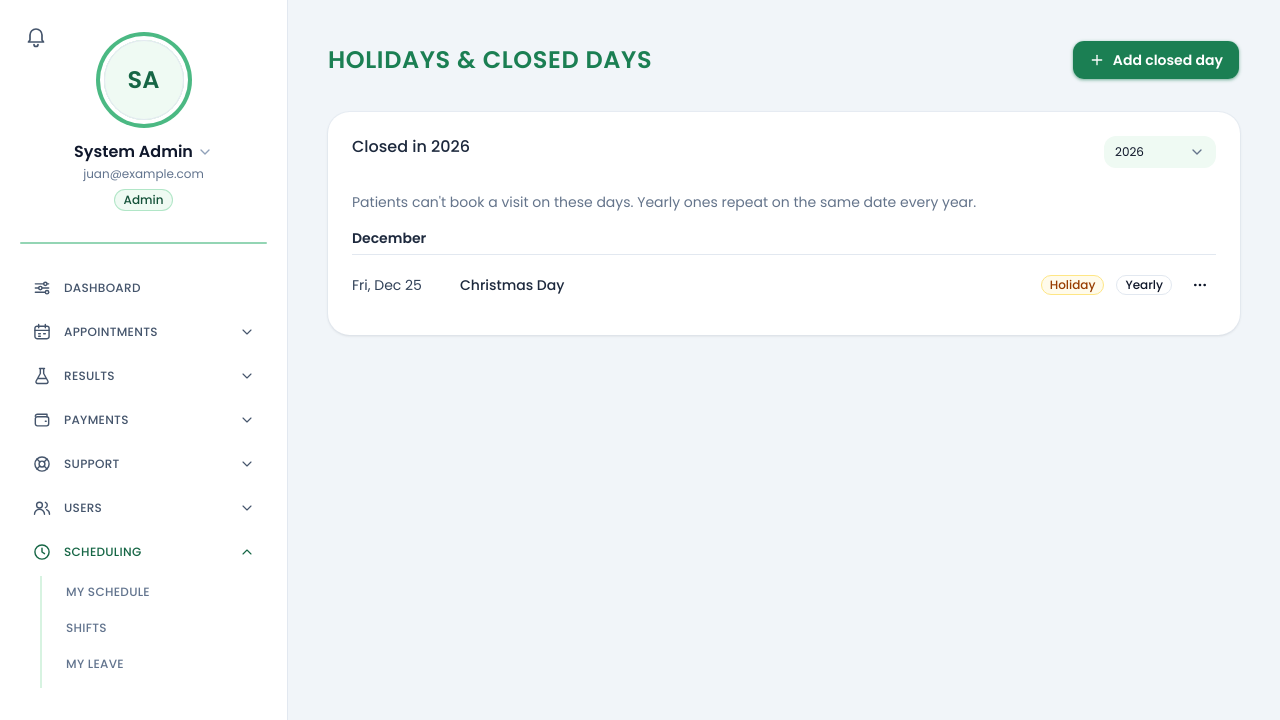
Test case: HolidaysPage › adds a closed day through the dialog
The image size is (1280, 720).
Click the button "Add closed day": point(1156, 60) top-left (1072, 40), bottom-right (1240, 80)
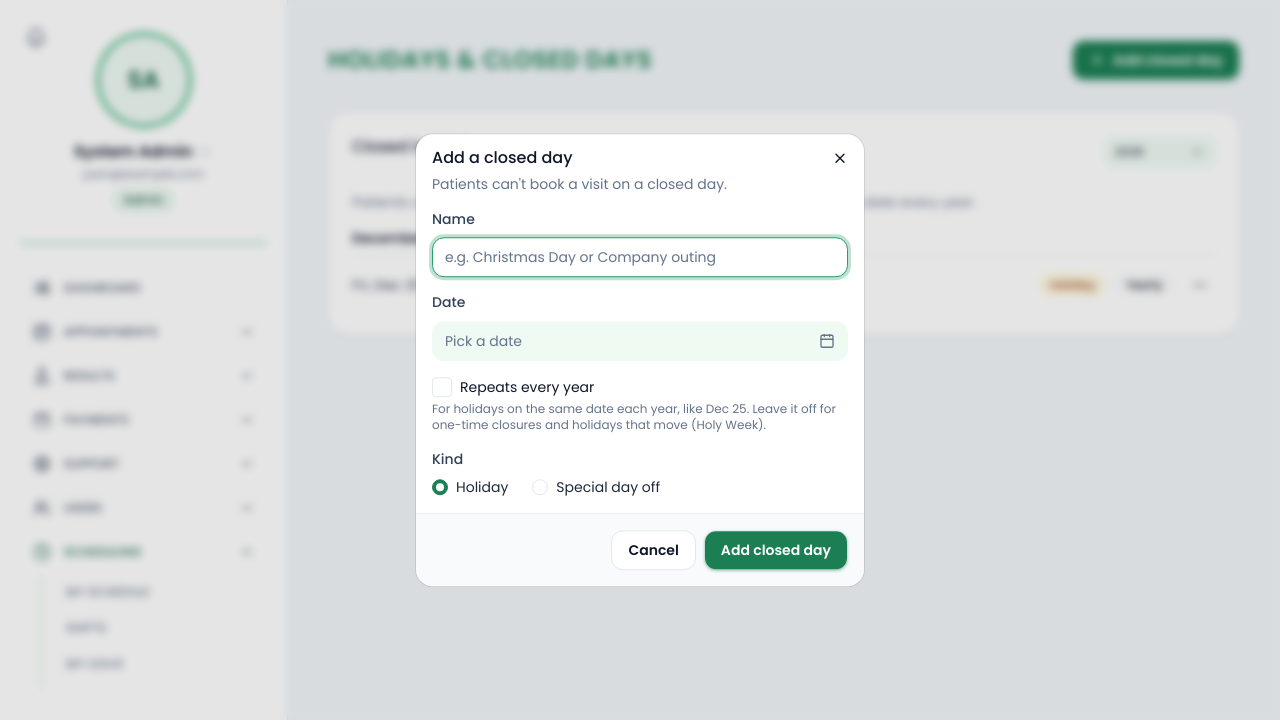
In the field labelled "Name": point(640, 258) top-left (432, 238), bottom-right (848, 278), type "Company outing"
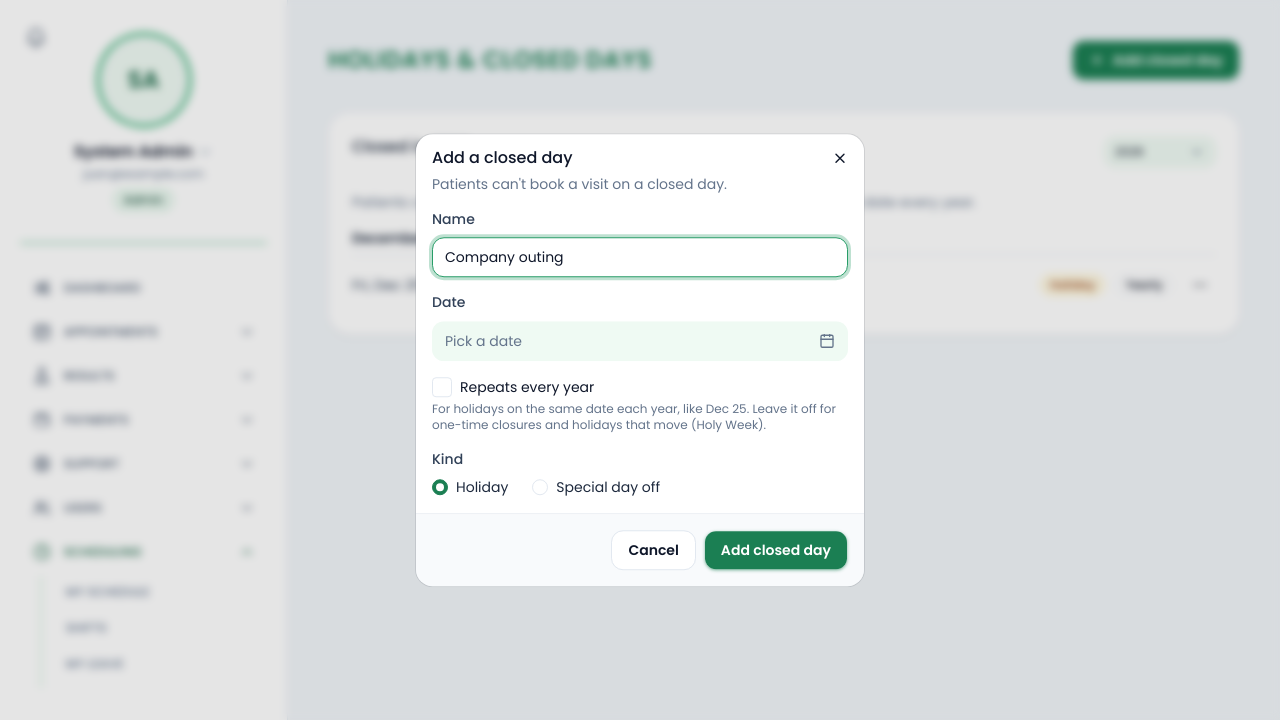
Click the button labelled "Pick a date": point(483, 341) top-left (432, 321), bottom-right (848, 361)
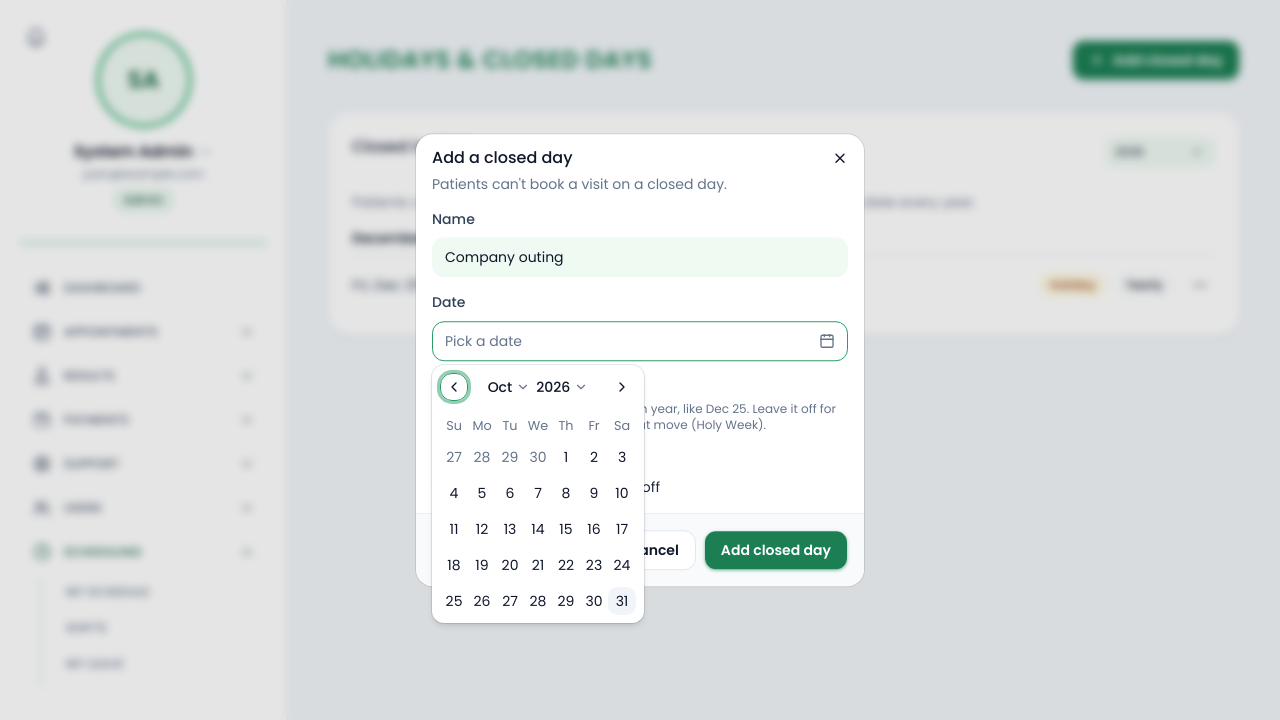
Click the button named " 6th, ": point(510, 493) top-left (496, 479), bottom-right (524, 507)
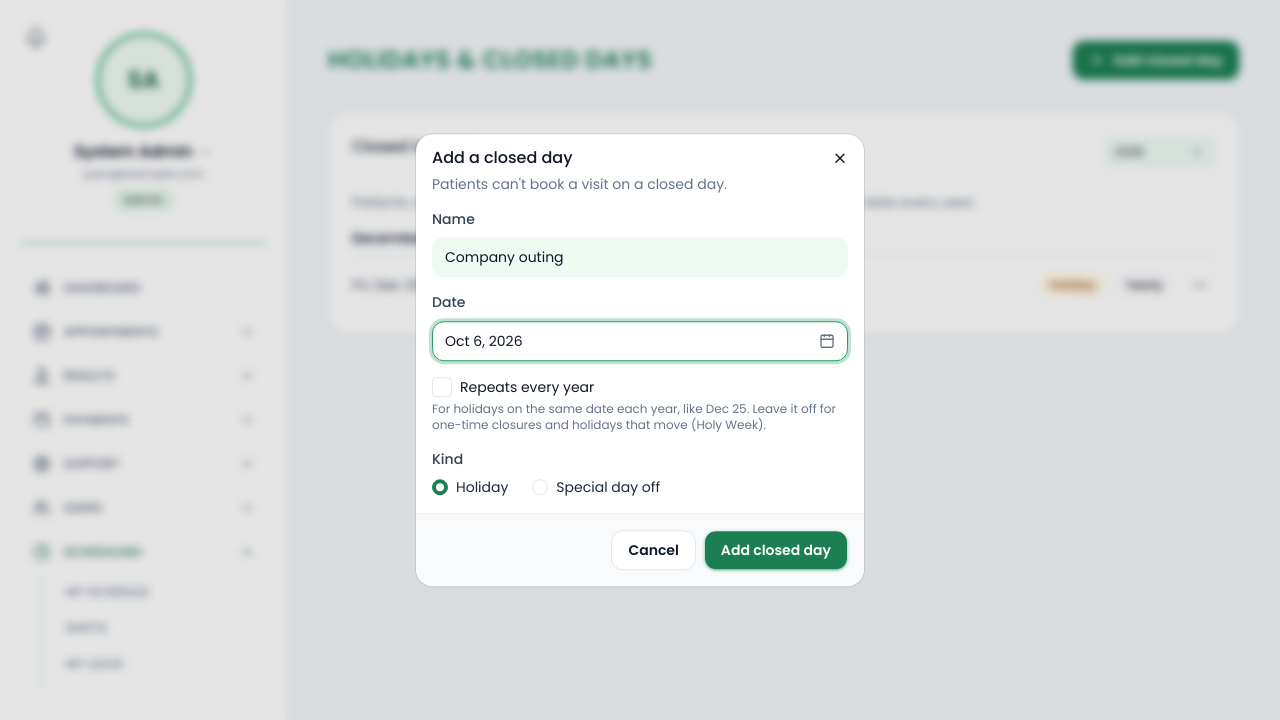
Click the radio button named "Special day off" next to "Special day off": point(540, 487) top-left (532, 479), bottom-right (548, 495)
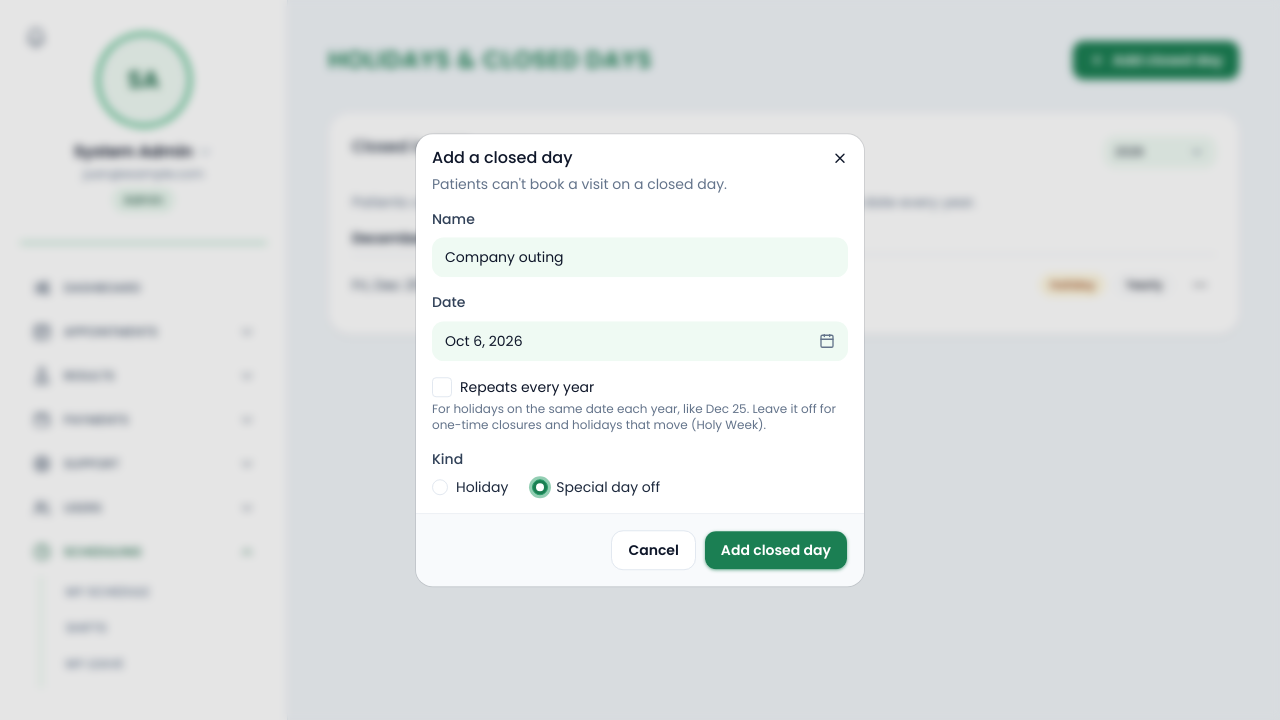
Click the button "Add closed day": point(776, 550) top-left (704, 530), bottom-right (848, 570)
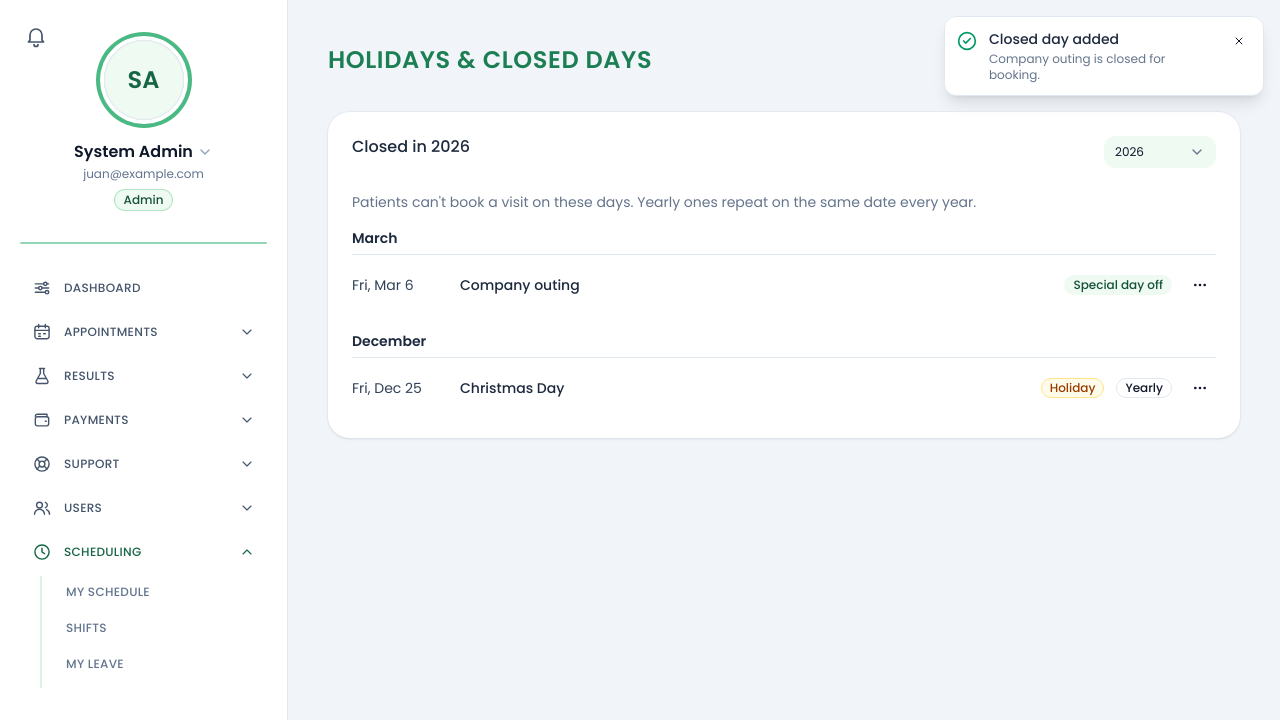
Now the text "Closed day added" is shown, box top-left (989, 29), bottom-right (1119, 49)
Now the text "Company outing" is shown, box top-left (460, 275), bottom-right (580, 295)
